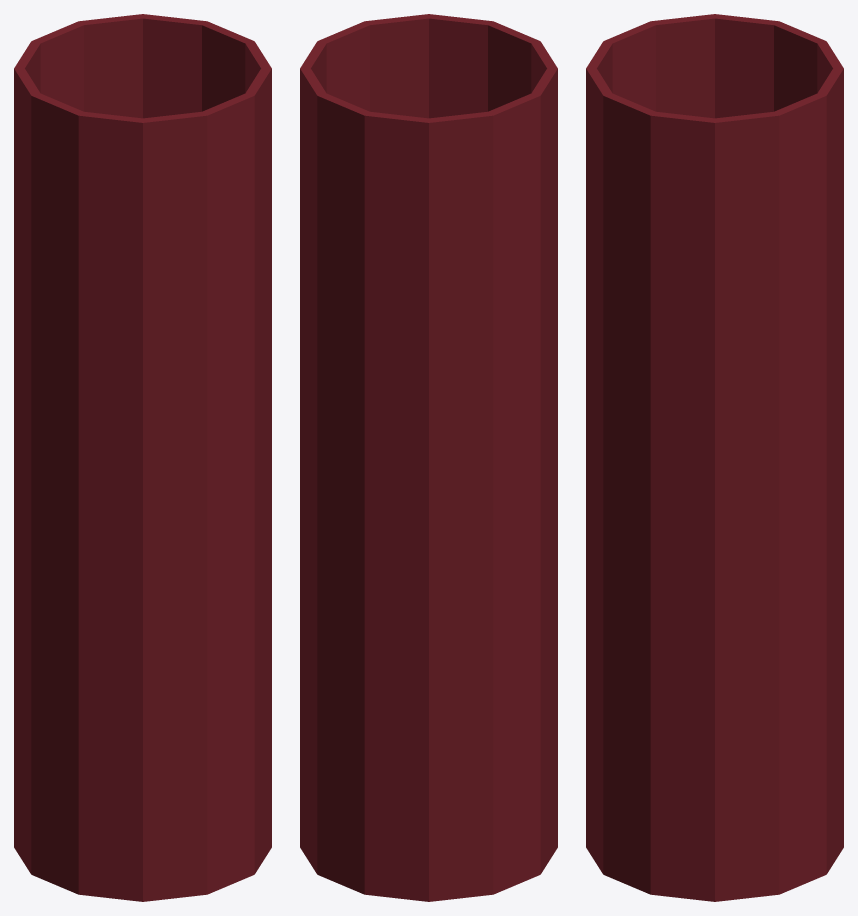
File: candle.fbx
3 views of the same model, side by side, from view 1: azimuth 30°, elevation 25°; view 2: azimuth 150°, elevation 25°; view 3: azimuth 270°, elevation 25° (orthographic).
Visible parts, largest first — view 1: CandleFamily; view 2: CandleFamily; view 3: CandleFamily.
Boxes of the visible parts, <box> form: CandleFamily: <box>14,14,271,901</box>; CandleFamily: <box>300,14,557,901</box>; CandleFamily: <box>586,14,843,901</box>.
Size of the model in its own units: 0.06 by 0.2 by 0.06.
